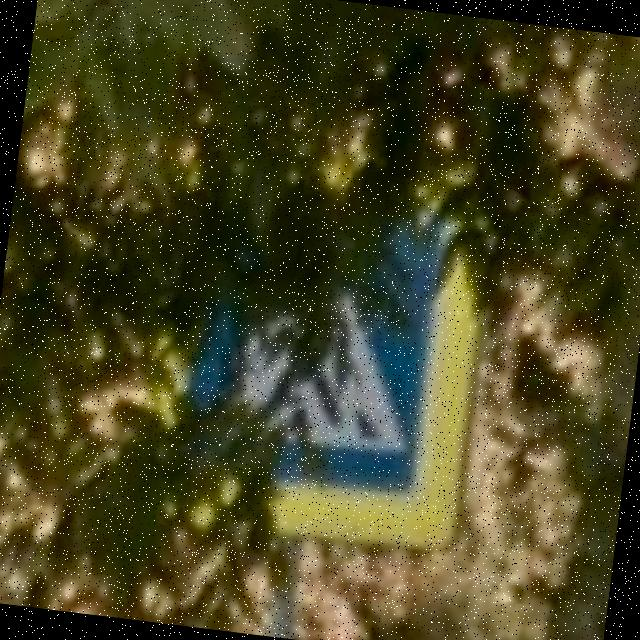Przejscie dla pieszych: (157, 159, 502, 558)
